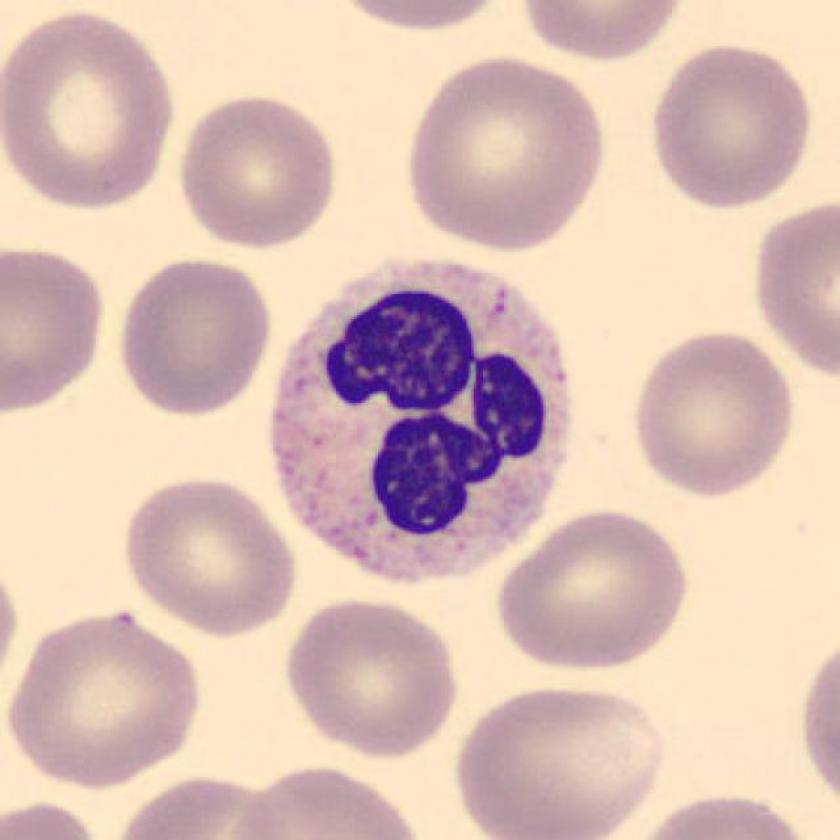neutrophil: (272, 262, 571, 580)
